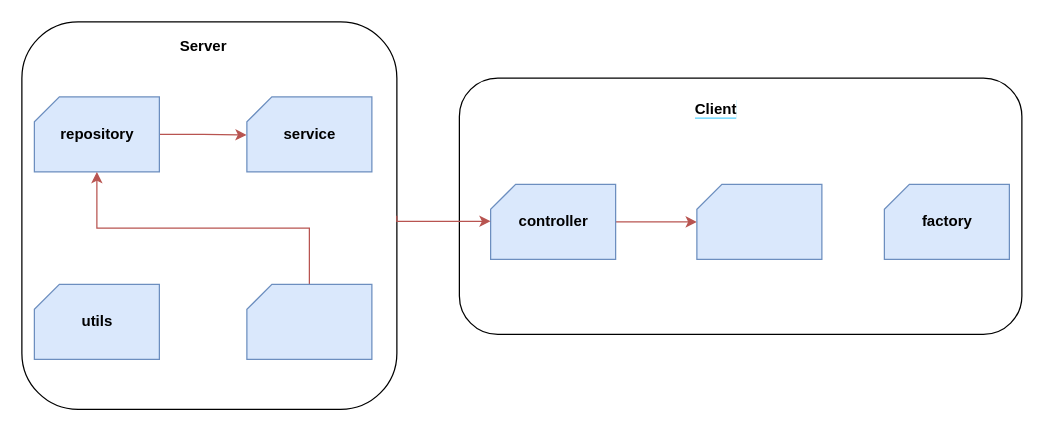
The diagram is 1044 pixels wide and 431 high, and some of its shapes have lost their labels. The shapes that lost their labels are listed below. From the top down, each one's centre as x and y in pixels, then its label:
point (759, 221): view
point (309, 321): entity
